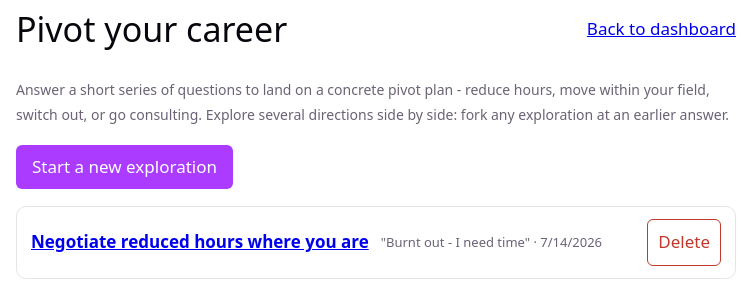
pivot list › deletes an exploration after confirming
The width and height of the screenshot is (753, 296).
Check: the text "Negotiate reduced hours where you are" is shown, box [31,230,369,253]
Click the button "Delete" at (684,243), box [647,219,721,266]
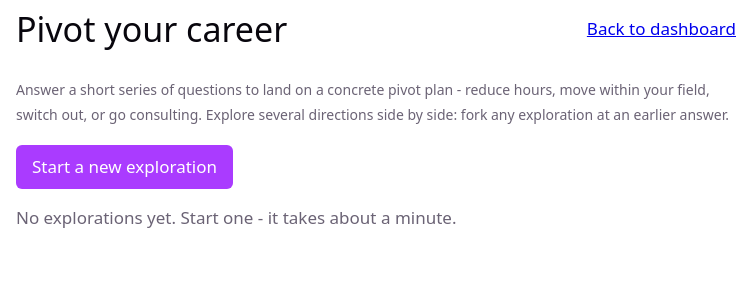
Check: the text "No explorations yet. Start one - it takes about a minute." is shown, box [16,206,456,229]
